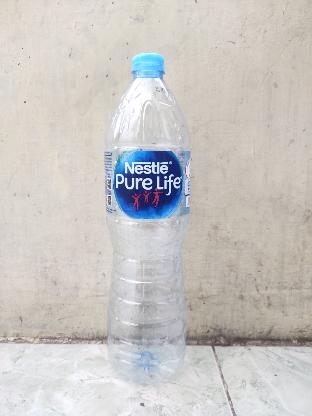Plastic Bottle: (103, 53, 191, 384)
